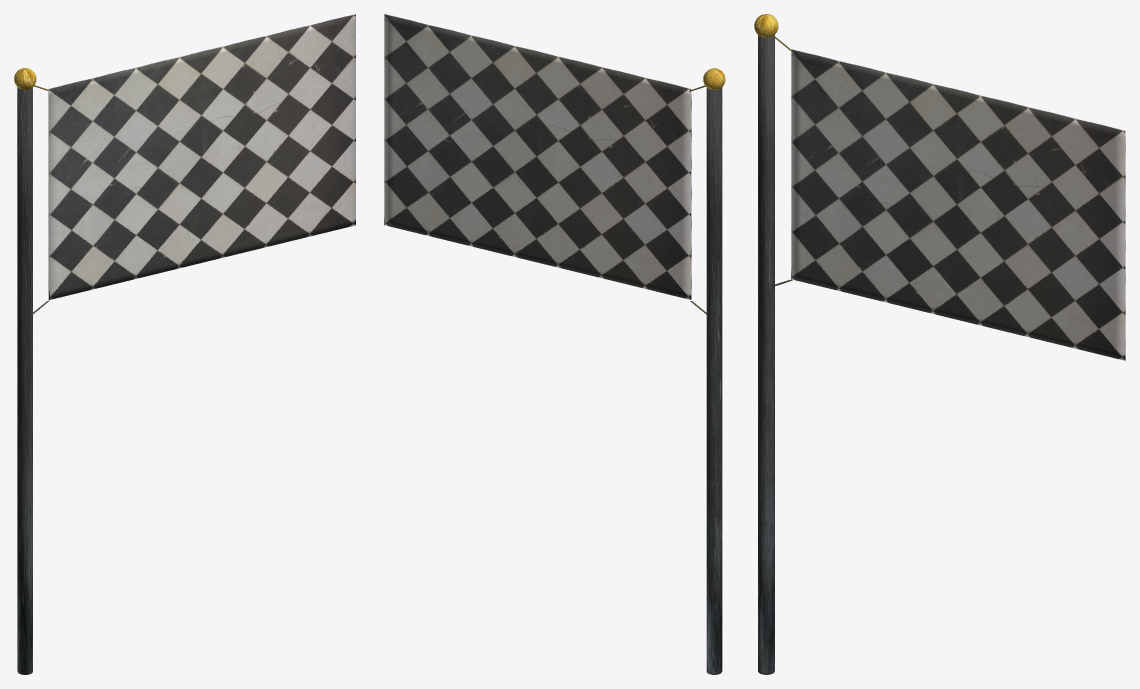
Rendered from flag5.obj.
The picture shows the model from 3 angles, left to right: view 1: azimuth 30°, elevation 25°; view 2: azimuth 150°, elevation 25°; view 3: azimuth 330°, elevation 25°; orthographic projection. The views are drawn at different scales.
Size of the model in its own units: 23.47 by 39.79 by 1.34.
4 materials, 3 textured.
